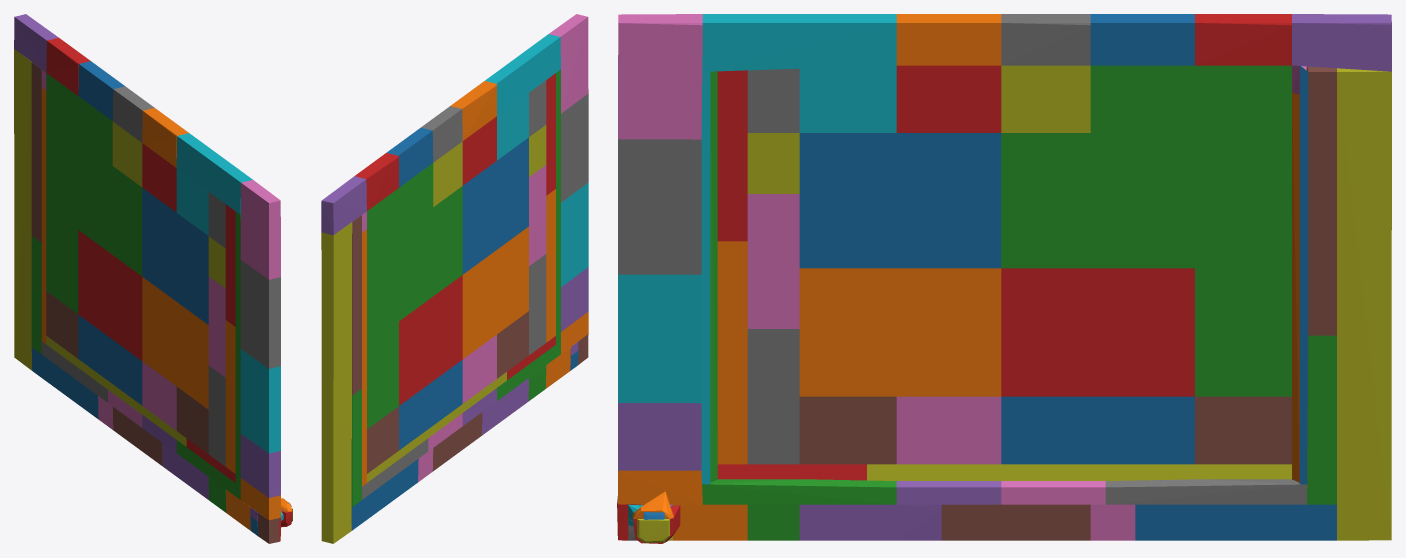
File: Door_02_cvx.obj
3 views of the same model, side by side, from view 1: azimuth 30°, elevation 25°; view 2: azimuth 150°, elevation 25°; view 3: azimuth 270°, elevation 25° (orthographic). The views are drawn at different scales.
Parts seen in each view (by area): view 1: scenes/apartment_0000_coacd/output/Unknown/Kitchen_Sink/Door_02/; view 2: scenes/apartment_0000_coacd/output/Unknown/Kitchen_Sink/Door_02/; view 3: scenes/apartment_0000_coacd/output/Unknown/Kitchen_Sink/Door_02/.
Part boxes in pixels (x1=…): scenes/apartment_0000_coacd/output/Unknown/Kitchen_Sink/Door_02/: x1=14, y1=14, x2=292, y2=543; scenes/apartment_0000_coacd/output/Unknown/Kitchen_Sink/Door_02/: x1=321, y1=14, x2=588, y2=543; scenes/apartment_0000_coacd/output/Unknown/Kitchen_Sink/Door_02/: x1=617, y1=14, x2=1391, y2=543.
Bounding box in the file's own units: 0.0387 × 0.392 × 0.5308.
